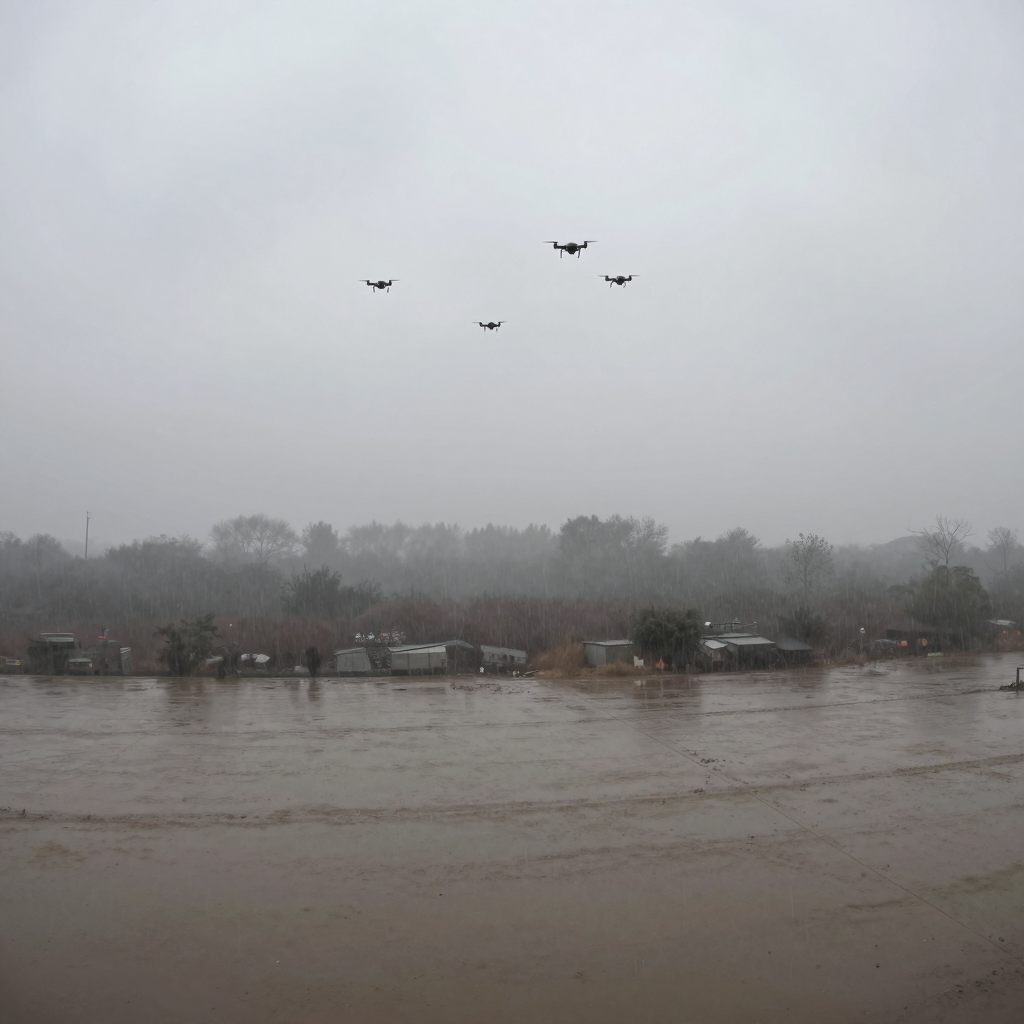drone: (543, 241, 598, 259), (357, 279, 401, 293), (597, 275, 640, 288), (472, 321, 508, 333)
